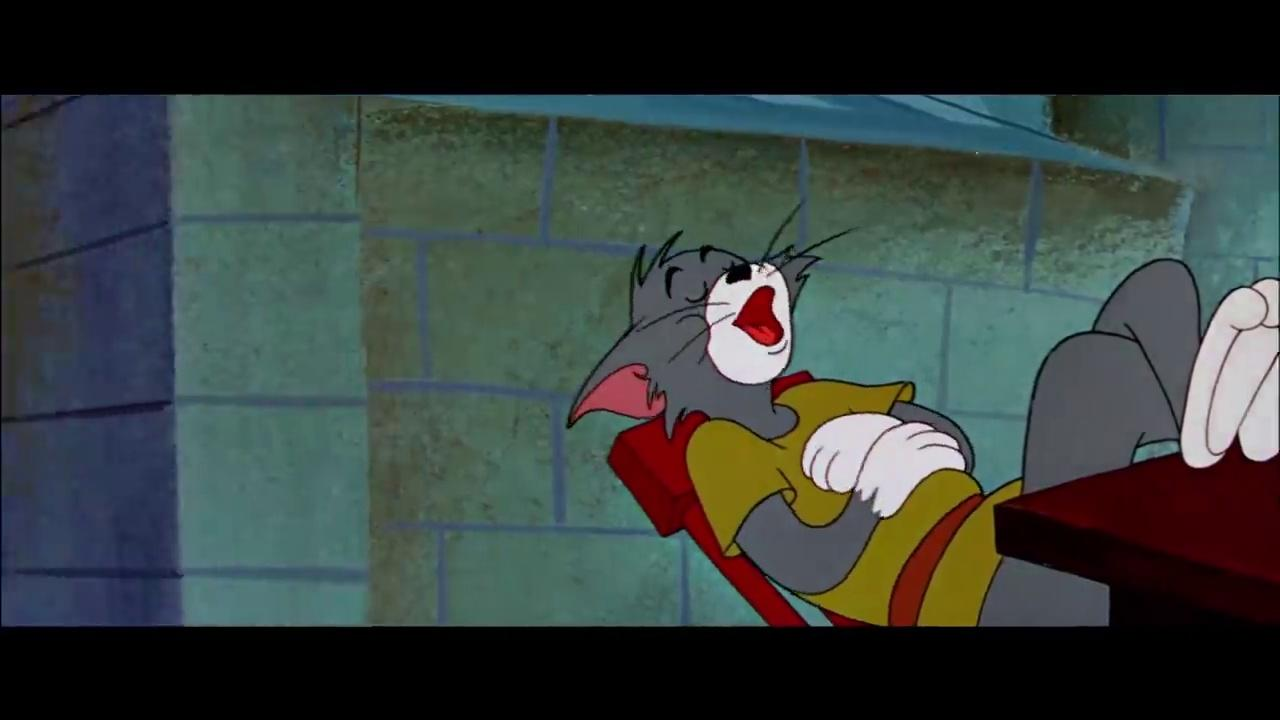Tom: (567, 225, 1280, 627)
